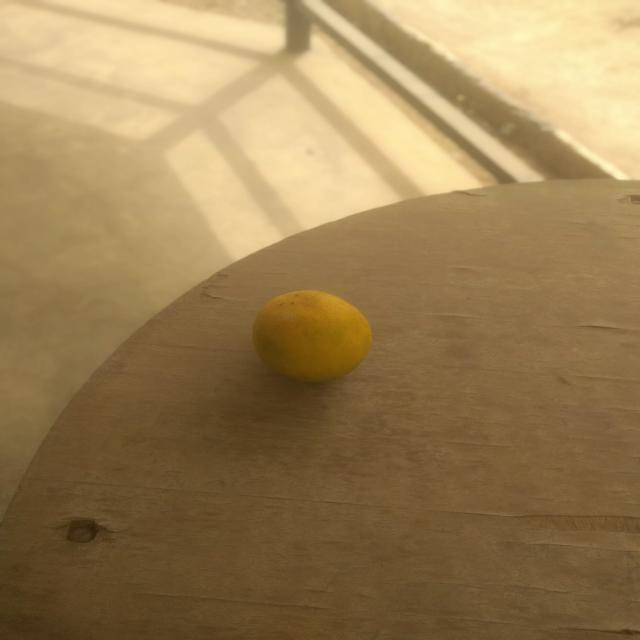Ripe orange: (186, 231, 450, 396)
